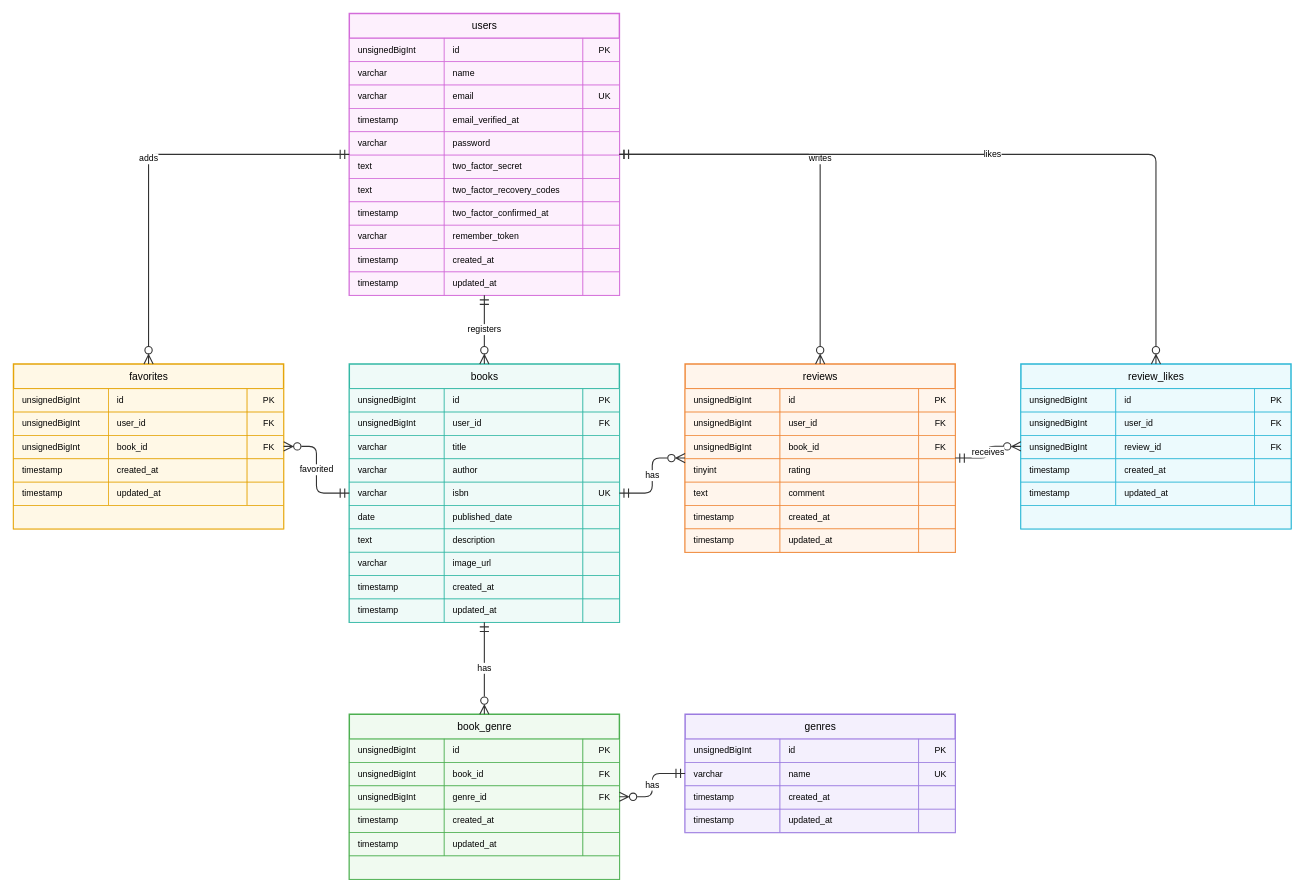
Image size: 1304x892. Some labels were removed from this diagram. Each missing label, with the centre of its shape:
"UNIQUE（book_id + genre_id）" belongs at (484,867).
"UNIQUE（user_id + book_id）" belongs at (148,517).
"UNIQUE（user_id + review_id）" belongs at (1155,517).
